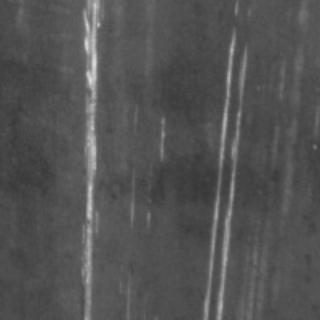scratches: (202, 0, 244, 318), (69, 2, 107, 316)
